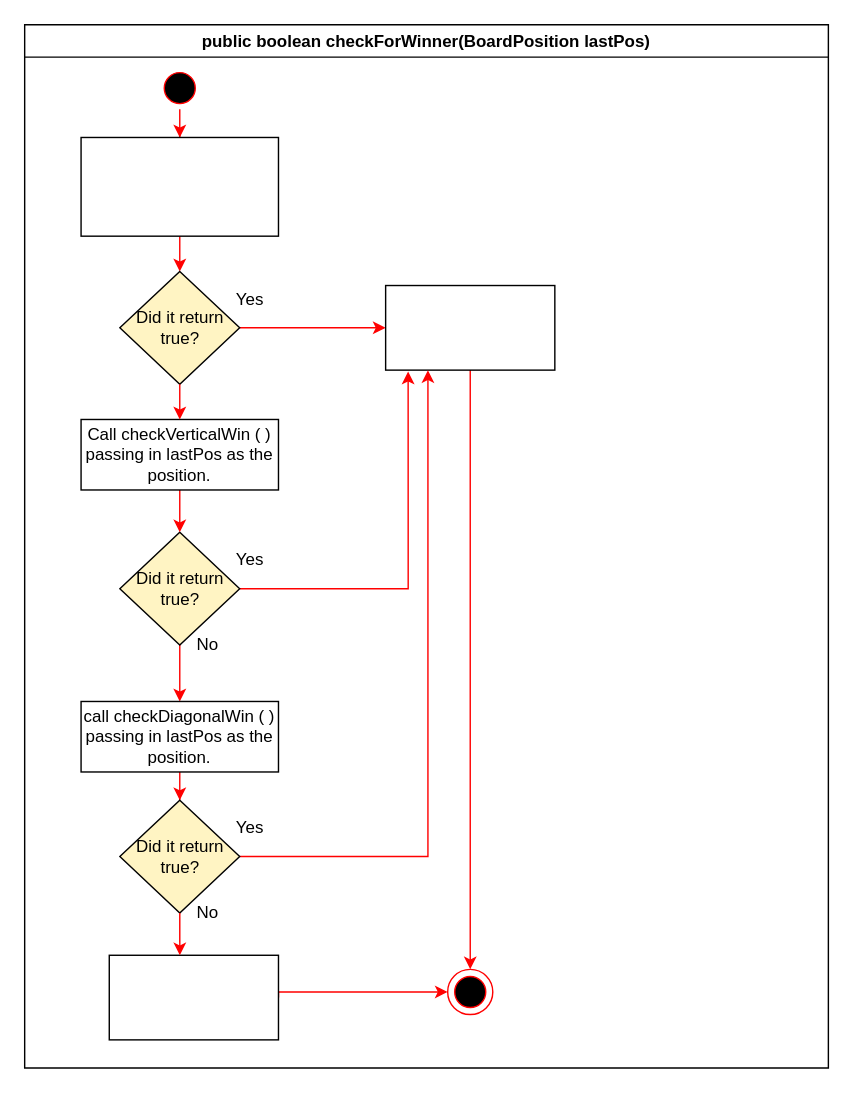
This 853x1093 diagram has some shape labels left out. Each missing label, with the centre of its shape:
Call checkHorizontalWin() passing in lastPos as the position.: the point at 179,186
Return false: the point at 193,997
Return true: the point at 469,327
